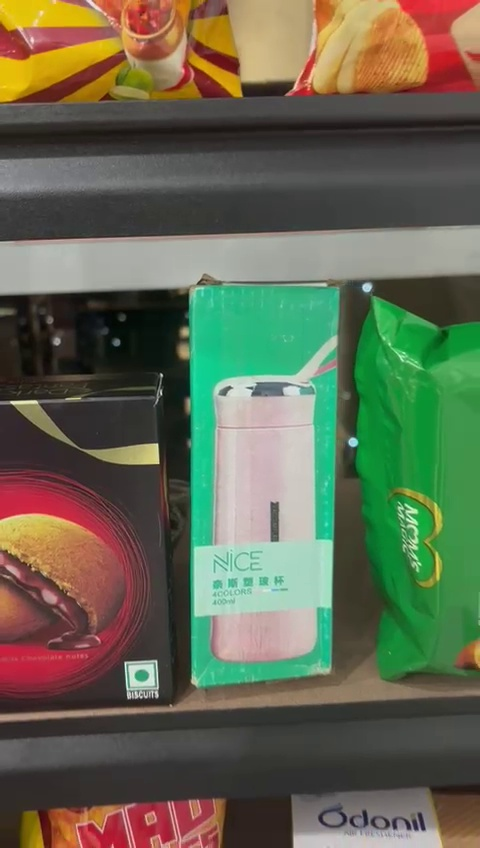Bottle: (190, 285, 334, 682)
